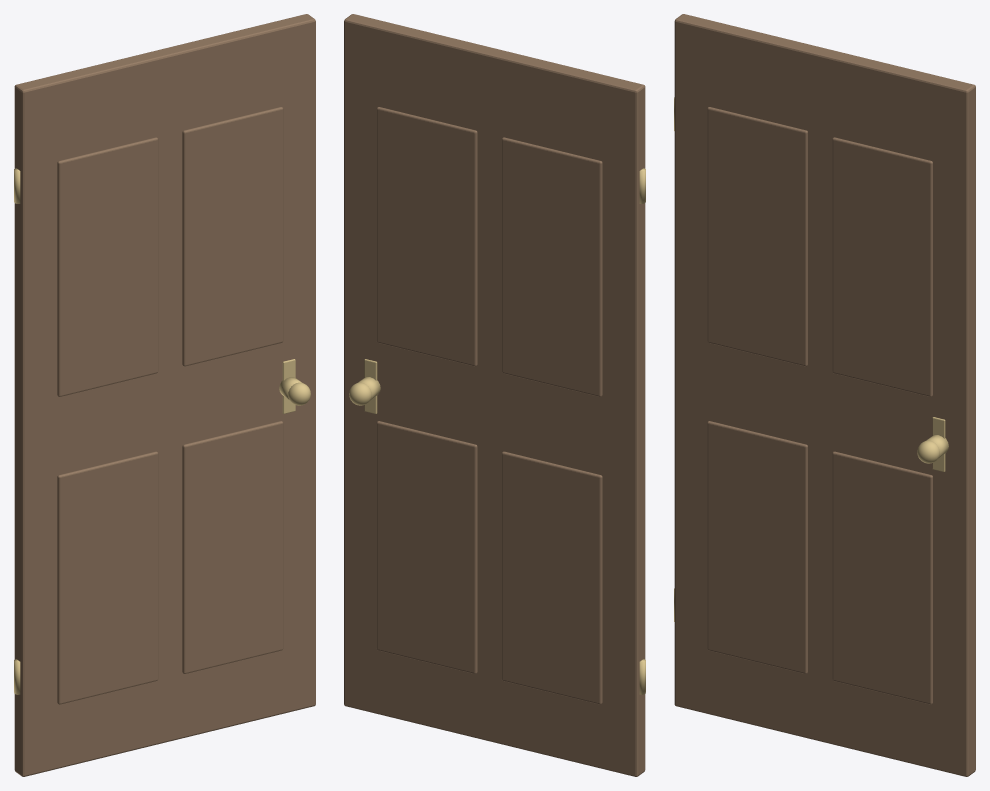
Rendered from door.glb.
The picture shows the model from 3 angles, left to right: view 1: azimuth 30°, elevation 25°; view 2: azimuth 150°, elevation 25°; view 3: azimuth 330°, elevation 25°; orthographic projection.
Parts seen in each view (by area): view 1: slab, panel.006, panel.002, panel, panel.004; view 2: slab, panel.007, panel.003, panel.001, panel.005; view 3: slab, panel.006, panel.002, panel.004, panel.
Part boxes in pixels (box(x1,y1,x2,y2)): slab: box(14, 14, 315, 776); panel.006: box(182, 107, 283, 366); panel.002: box(57, 137, 158, 396); panel: box(57, 451, 158, 704); panel.004: box(182, 421, 283, 673); slab: box(344, 14, 645, 776); panel.007: box(376, 107, 477, 366); panel.003: box(501, 137, 602, 396); panel.001: box(501, 451, 602, 704); panel.005: box(376, 421, 477, 673); slab: box(674, 14, 975, 776); panel.006: box(832, 137, 932, 396); panel.002: box(707, 107, 807, 366); panel.004: box(832, 451, 932, 704); panel: box(707, 421, 807, 673).
Size of the model in its own units: 0.952 by 2.1 by 0.234.
